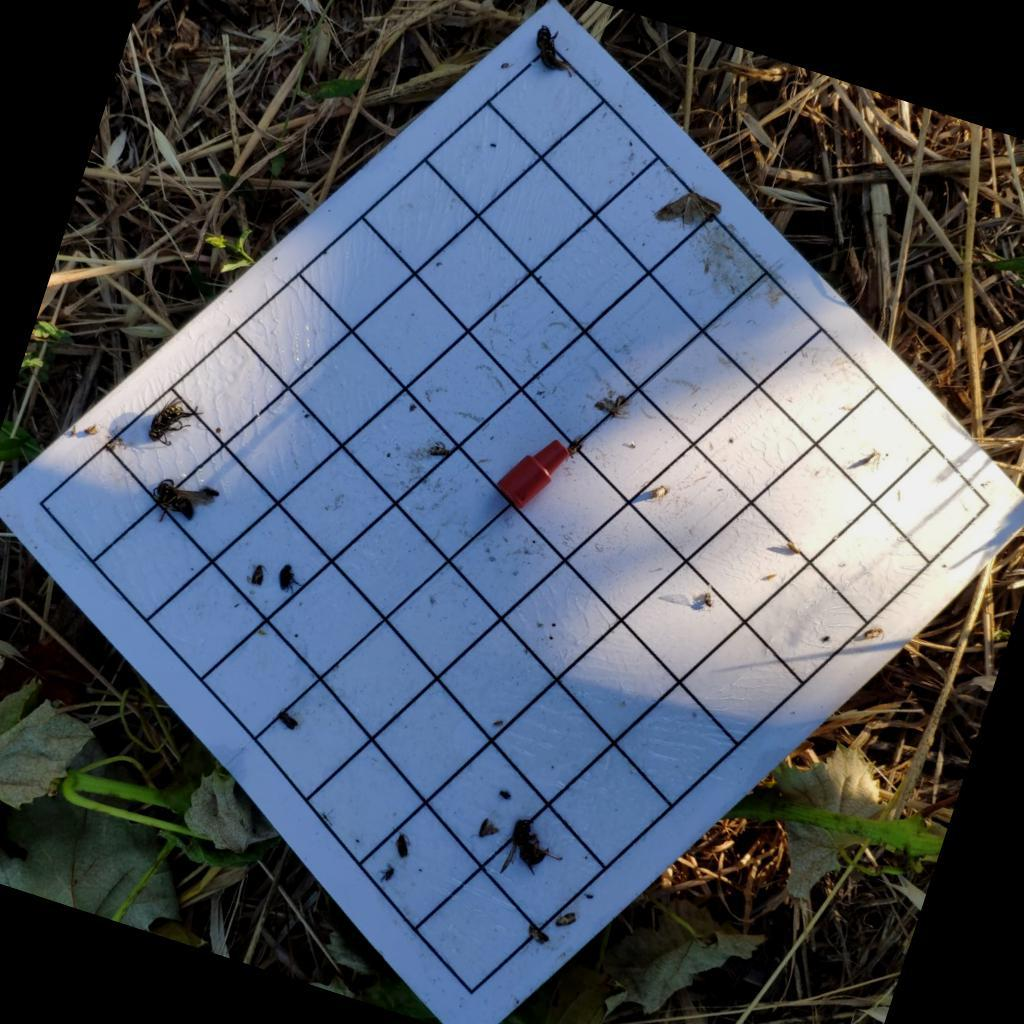grape_moth: (590, 385, 636, 424), (467, 812, 503, 847), (523, 922, 553, 947), (553, 905, 580, 932), (424, 437, 453, 462), (862, 620, 890, 645), (247, 560, 271, 588), (647, 480, 673, 503), (564, 433, 584, 458)
